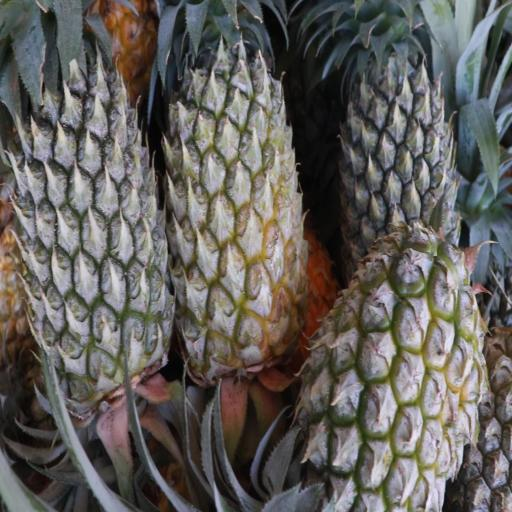------------------------------: (169, 12, 304, 368), (302, 250, 477, 512)
